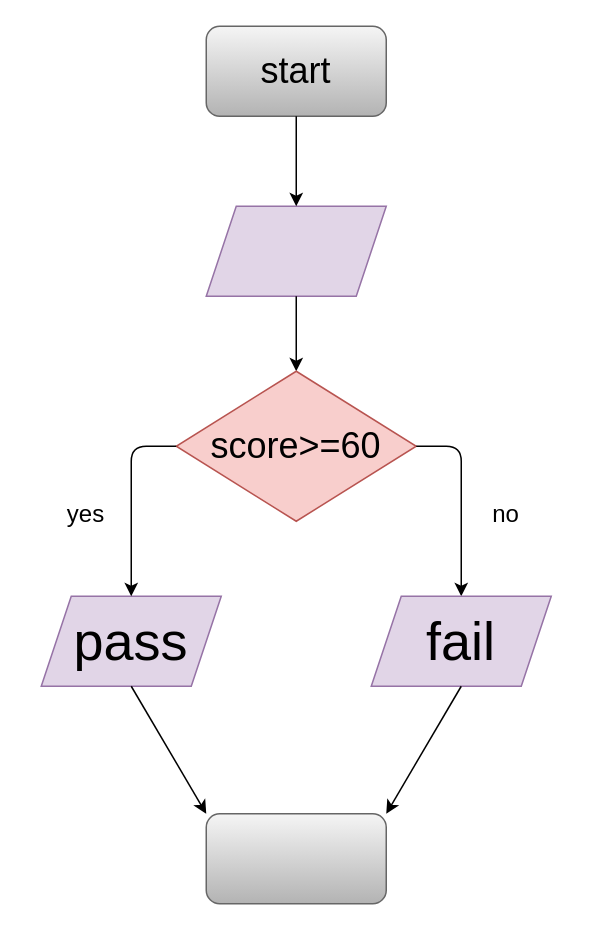
Image size: 591x930. Some labels were removed from this diagram. The shapes that lost their labels are listed below. From the top down, each one's centre as x and y in pixels, then its label:
the point at 295,250: score
the point at 295,858: end
